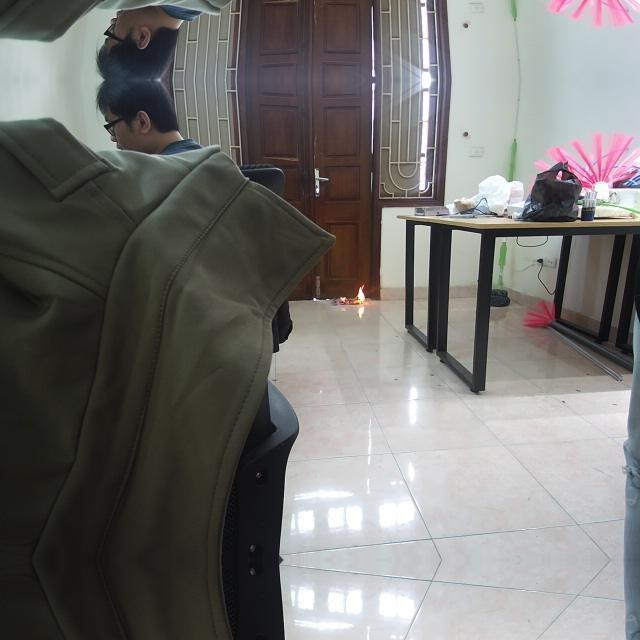smoke: (354, 283, 364, 303)
